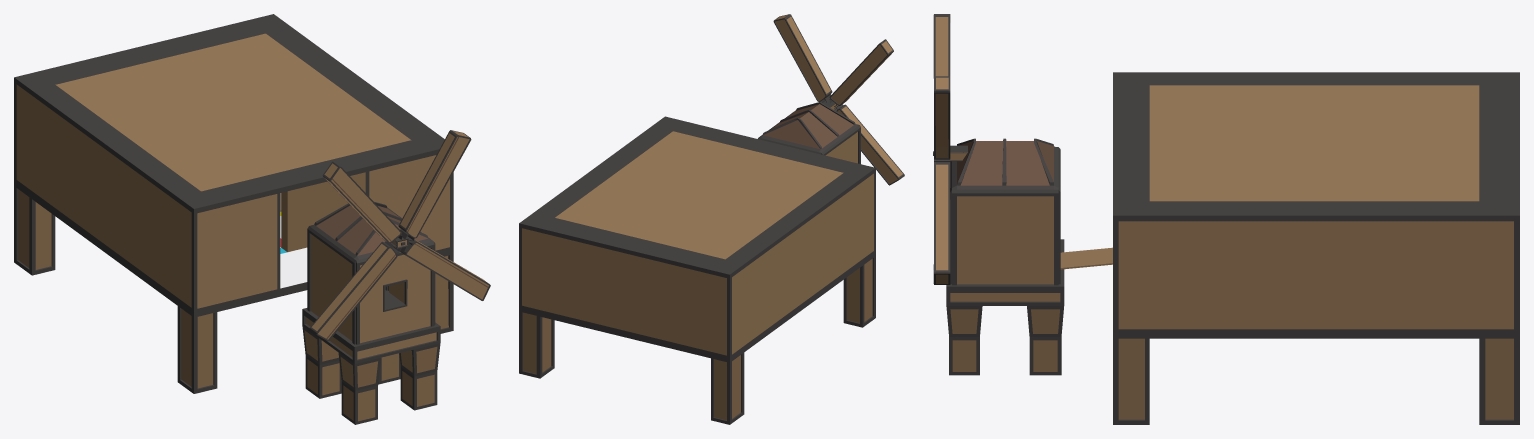
Rendered from mill.glb.
The picture shows the model from 3 angles, left to right: view 1: azimuth 30°, elevation 25°; view 2: azimuth 150°, elevation 25°; view 3: azimuth 270°, elevation 25°; orthographic projection. The views are drawn at different scales.
Visible parts, largest first — view 1: MazeRoom, Legs, BodyFaces, Blade1, Blade3, BodyFrames, Roof, MilBase, Blade4, Blade2; view 2: MazeRoom, Roof, Blade1, Blade3, Blade4, BodyFrames, BodyFaces; view 3: MazeRoom, BodyFaces, Legs, Roof, BodyFrames, Blade2, MilBase, Blade1, Blade4, Backdoor.
Part boxes in pixels (bbox=[...]): MazeRoom: bbox=[14, 14, 453, 393]; Legs: bbox=[302, 326, 440, 424]; BodyFaces: bbox=[311, 234, 430, 343]; Blade1: bbox=[398, 130, 471, 240]; Blade3: bbox=[309, 241, 401, 341]; BodyFrames: bbox=[302, 207, 440, 349]; Roof: bbox=[314, 202, 428, 255]; MilBase: bbox=[302, 291, 440, 363]; Blade4: bbox=[322, 161, 402, 244]; Blade2: bbox=[400, 239, 490, 300]; MazeRoom: bbox=[519, 116, 875, 424]; Roof: bbox=[763, 102, 855, 149]; Blade1: bbox=[773, 14, 832, 102]; Blade3: bbox=[834, 104, 904, 185]; Blade4: bbox=[829, 39, 893, 106]; BodyFrames: bbox=[758, 110, 860, 163]; BodyFaces: bbox=[825, 132, 857, 163]; MazeRoom: bbox=[1113, 72, 1519, 424]; BodyFaces: bbox=[957, 152, 1053, 284]; Legs: bbox=[946, 306, 1063, 375]; Roof: bbox=[957, 138, 1053, 185]; BodyFrames: bbox=[946, 146, 1064, 289]; Blade2: bbox=[933, 159, 950, 284]; MilBase: bbox=[946, 289, 1064, 305]; Blade1: bbox=[934, 76, 950, 159]; Blade4: bbox=[933, 14, 950, 78]; Backdoor: bbox=[1060, 247, 1112, 269].
Size of the model in its own units: 32 by 32 by 55.39.
